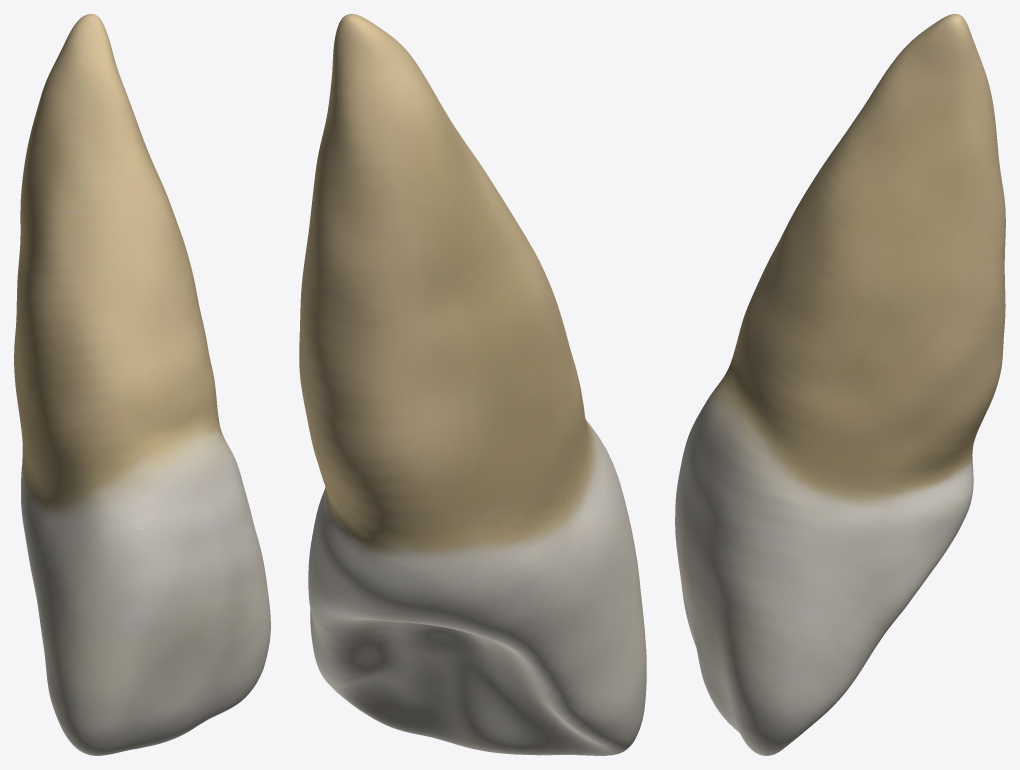
The picture shows the model from 3 angles, left to right: view 1: azimuth 30°, elevation 25°; view 2: azimuth 150°, elevation 25°; view 3: azimuth 270°, elevation 25°; orthographic projection. The views are drawn at different scales.
Visible parts, largest first — view 1: diente-21; view 2: diente-21; view 3: diente-21.
Part boxes in pixels (x1,y1,x2,y2): diente-21: [14, 14, 270, 755]; diente-21: [299, 14, 646, 755]; diente-21: [675, 14, 1005, 755].
Bounding box in the file's own units: 0.0086 × 0.0235 × 0.00979.
Materials: 1 (1 with a texture image).
